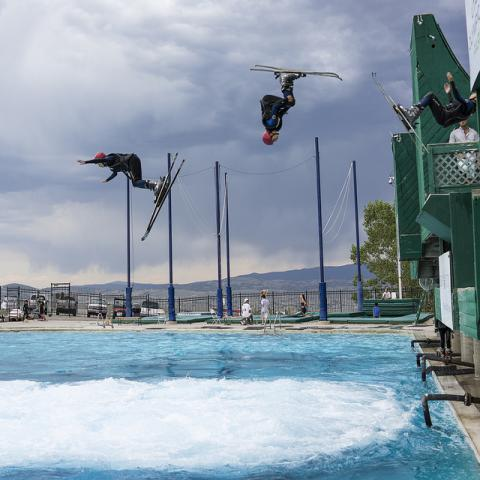car: (139, 300, 165, 317), (28, 294, 47, 314), (112, 298, 127, 319), (0, 296, 18, 310), (7, 309, 23, 322), (131, 303, 141, 311)
truck: (85, 297, 111, 320), (56, 296, 78, 317)
